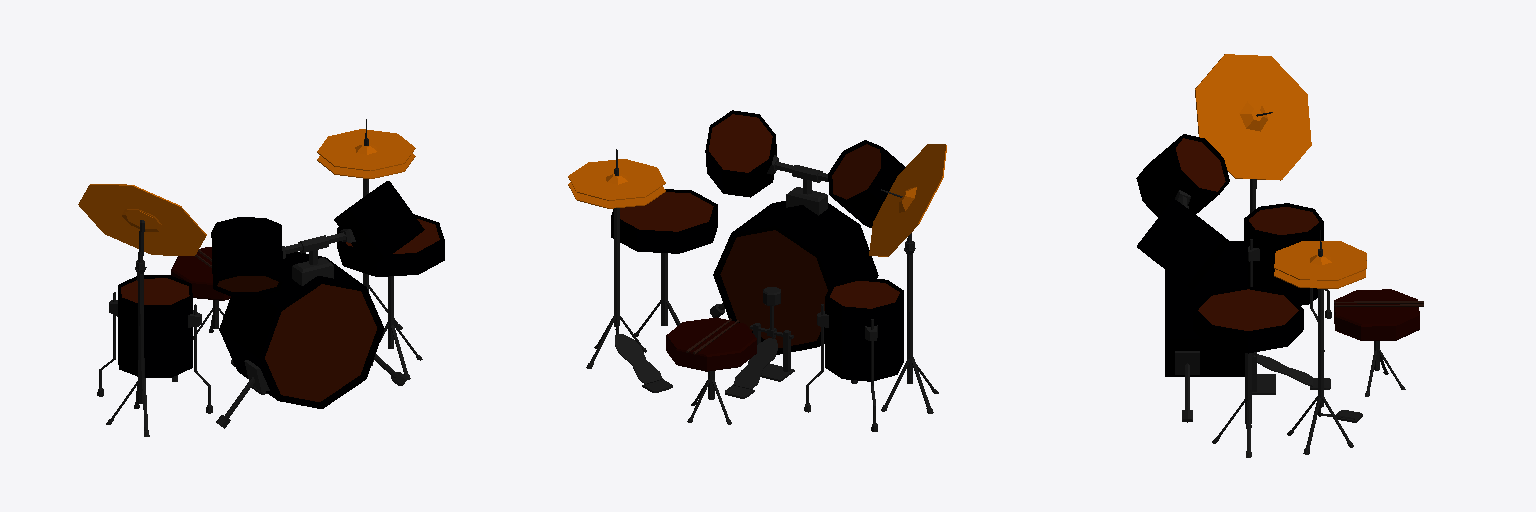
File: DrumSet1.obj
The picture shows the model from 3 angles: view 1: azimuth 30°, elevation 25°; view 2: azimuth 150°, elevation 25°; view 3: azimuth 270°, elevation 25°; orthographic projection.
Visible parts, largest first — view 1: DrumSet1_Plane; view 2: DrumSet1_Plane; view 3: DrumSet1_Plane.
Part boxes in pixels (x1,y1,x2,y2): DrumSet1_Plane: (78, 119, 444, 436); DrumSet1_Plane: (568, 110, 946, 431); DrumSet1_Plane: (1136, 54, 1423, 457).
Bounding box in the file's own units: 2.44 × 1.75 × 1.78.